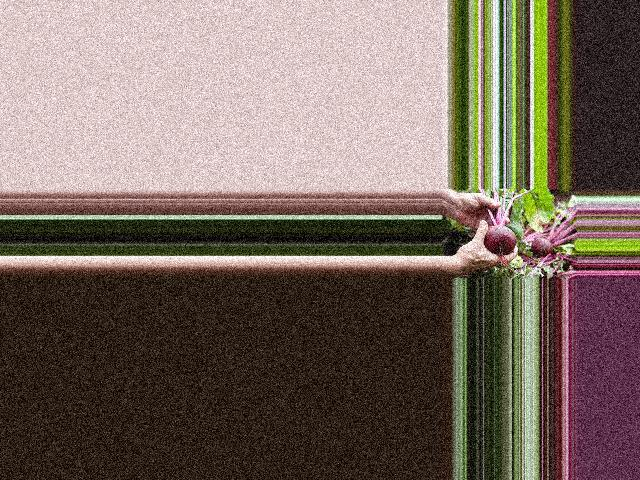beet: (482, 188, 534, 255)
